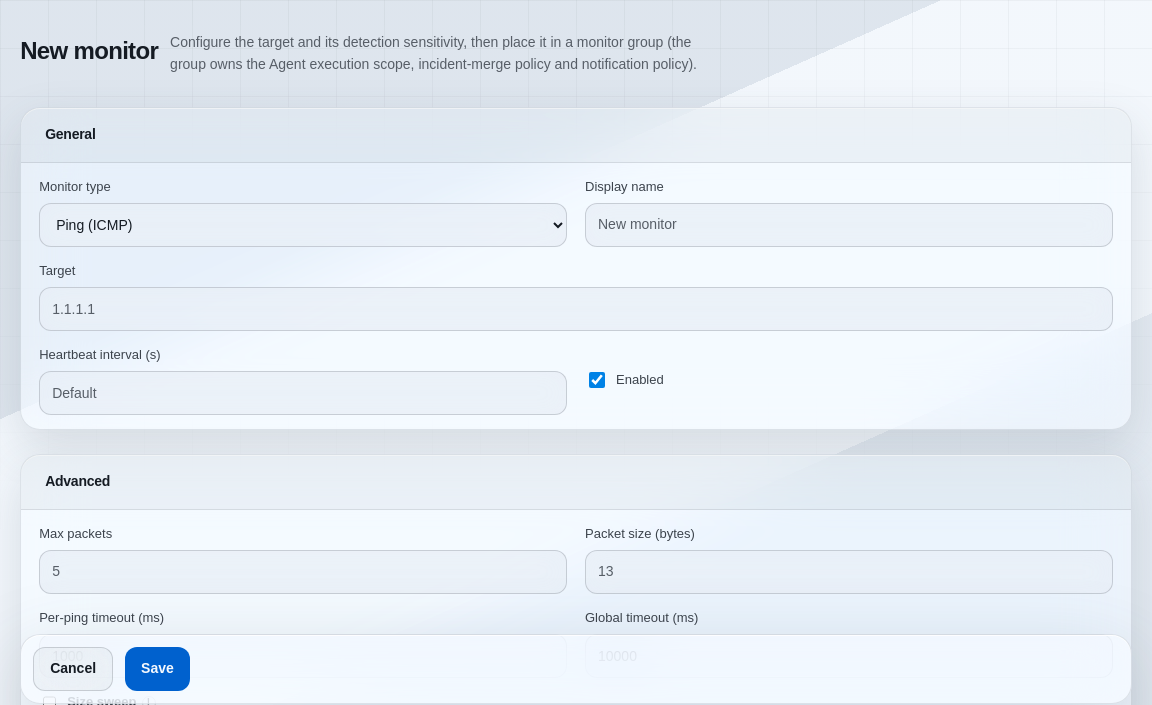
Test: MonitorForm save navigation › normalizes a scheme-less url that embeds an absolute url
The width and height of the screenshot is (1152, 705).
Select "HTTP(s)" in the dropdown labelled "Monitor type". click: [303, 225]
box: [39,203,567,247]
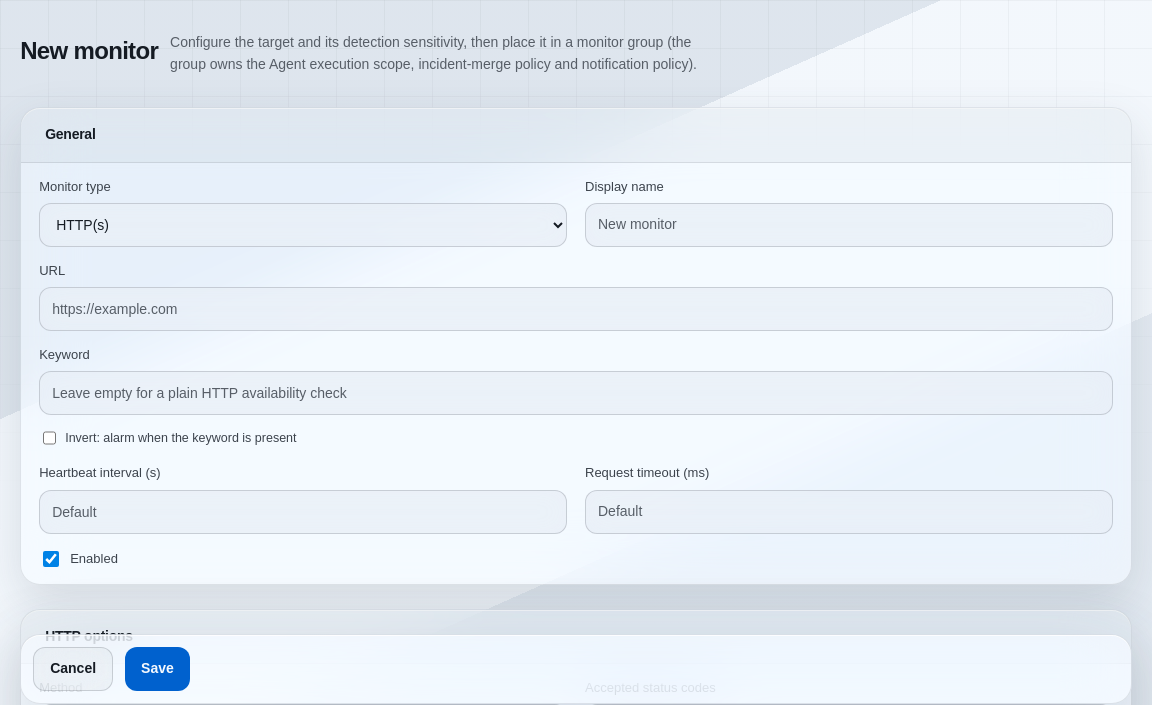
Type "example.com/login?next=https://idp.example" into the field labelled "URL". click: [576, 309]
box: [39,287,1113,331]
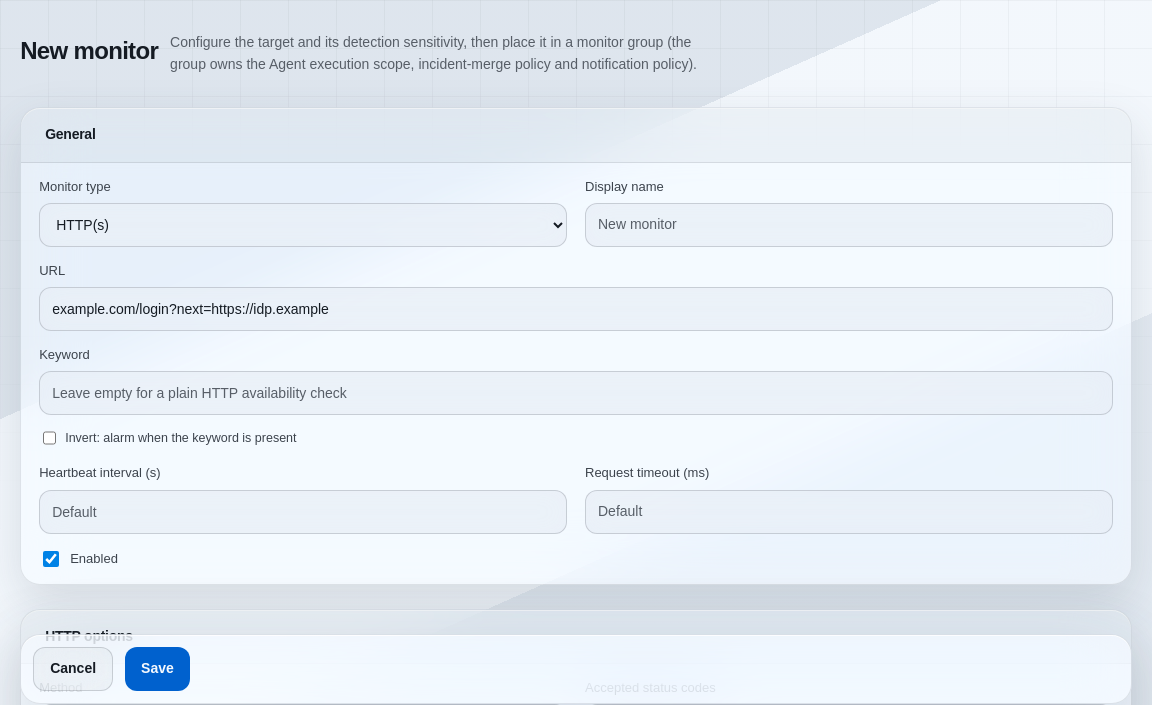
Leave the field labelled "URL", box [39,287,1113,331]
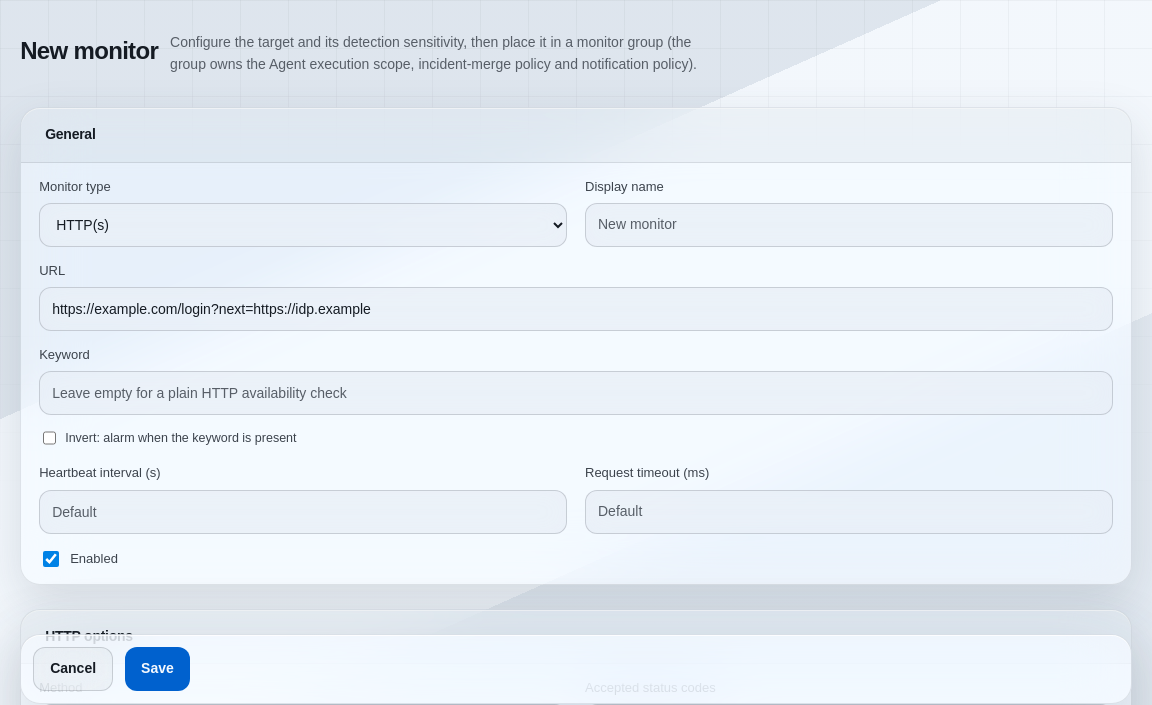
Check: the field labelled "URL" holds "https://example.com/login?next=https://idp.example", box [39,287,1113,331]
